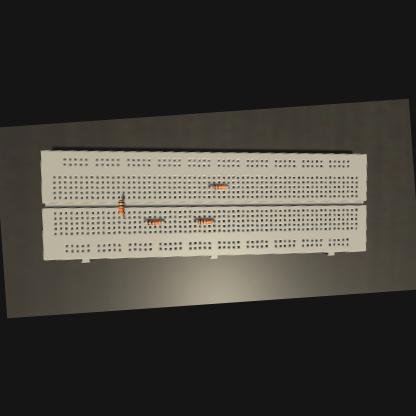breadboard: (36, 127, 373, 275)
resistor: (118, 200, 125, 214), (146, 219, 162, 225), (212, 183, 226, 189), (198, 218, 212, 224)
wire: (121, 196, 125, 199), (122, 215, 126, 217), (162, 220, 166, 222), (209, 186, 212, 188), (196, 220, 198, 222), (226, 186, 228, 187), (144, 222, 146, 223), (213, 220, 215, 221)
